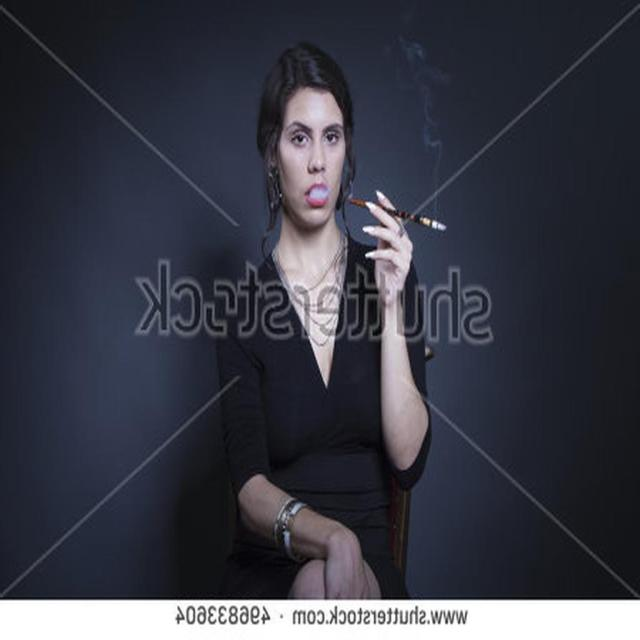smoking: (255, 38, 448, 280)
